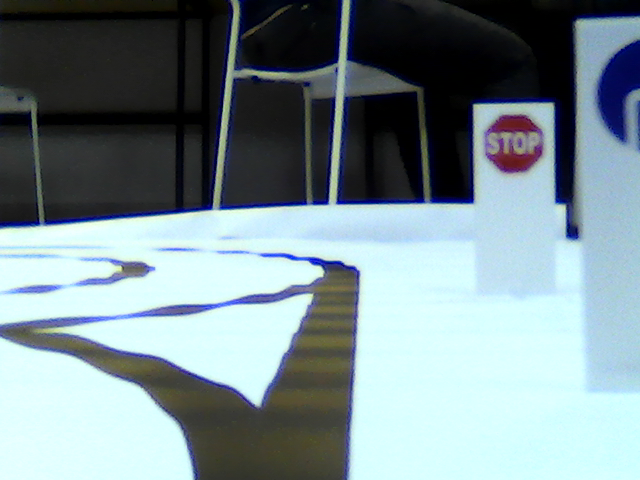Stop: (483, 109, 543, 172)
